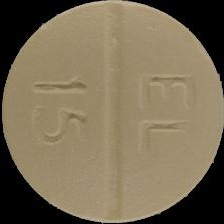51224-206: (0, 0, 224, 224)
